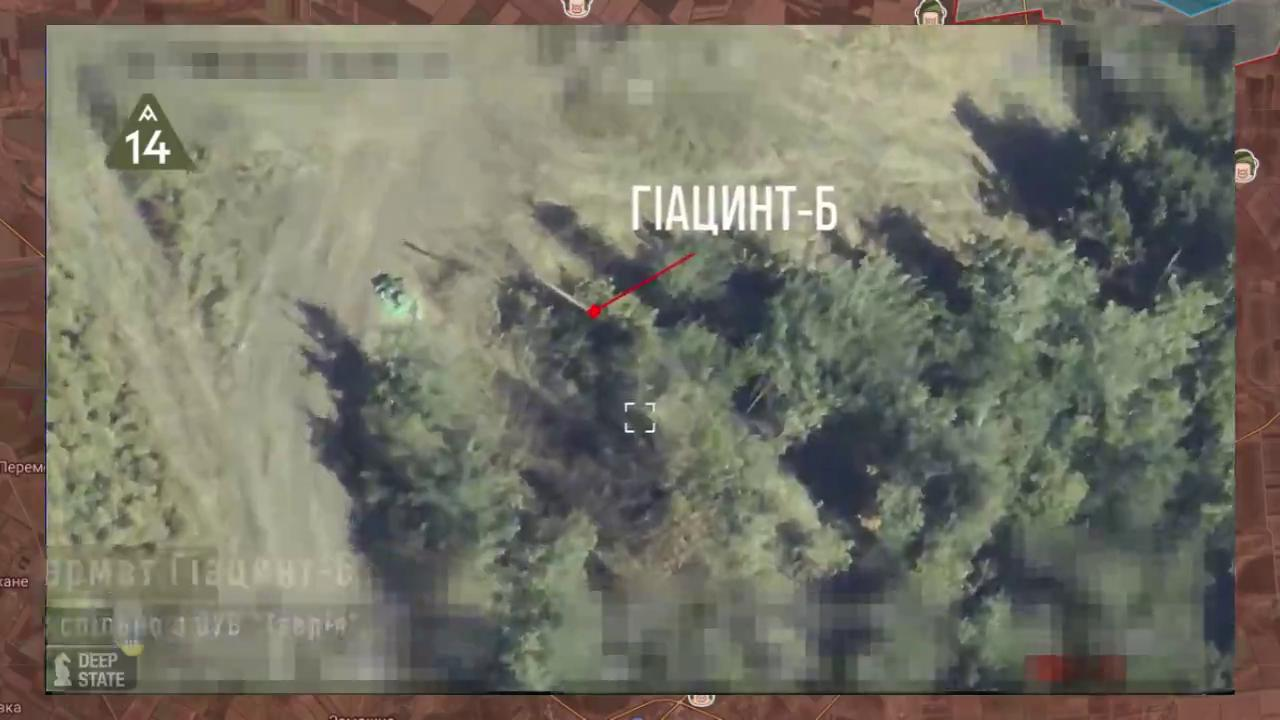tank: (494, 258, 618, 341)
